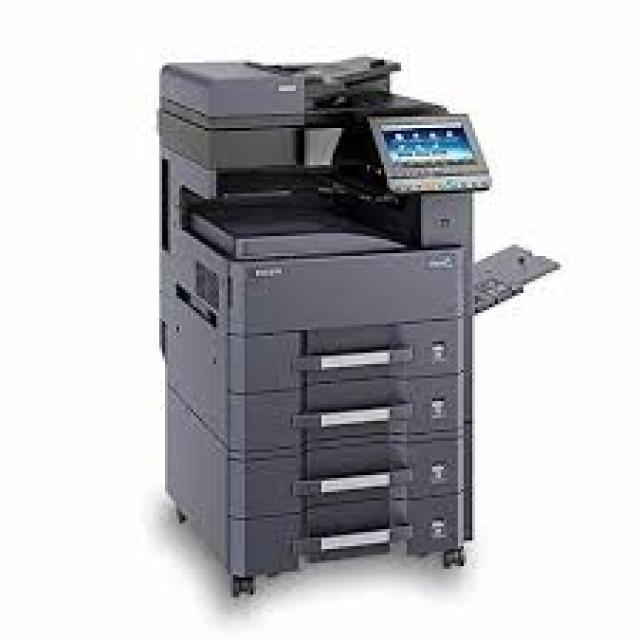printer: (154, 52, 560, 598)
